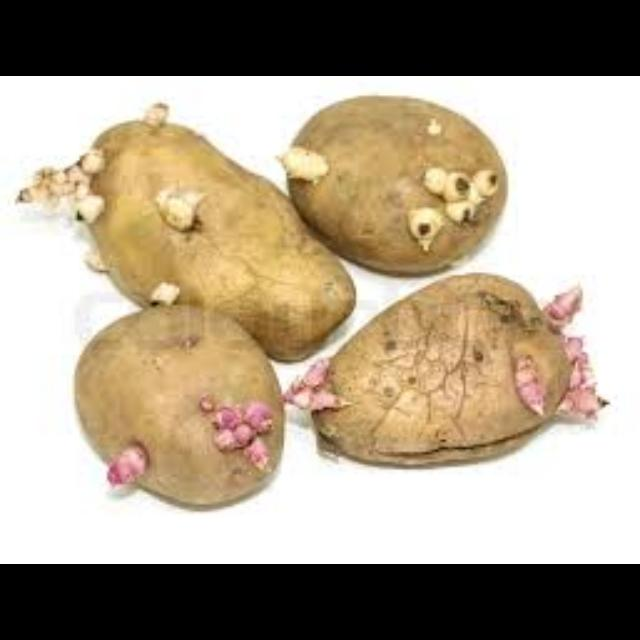Sprouted potato: (24, 104, 362, 362), (272, 272, 620, 500), (52, 294, 338, 514), (285, 90, 519, 284)
